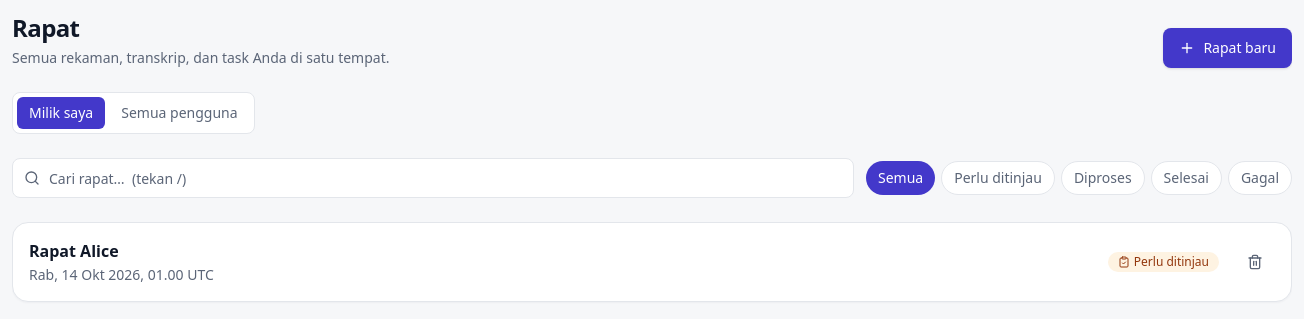
it: meetings page scope (super admin) › a super admin can switch to everyone's meetings and sees whose they are; others get no switch
Later steps or results of the test are not shown.
Expected: the text "Rapat Alice" is shown, left=29, top=240, right=119, bottom=262
Expected: the text "alice@kantor.id" is not shown
Click the button "Semua pengguna": {"x": 179, "y": 113} left=109, top=97, right=250, bottom=129
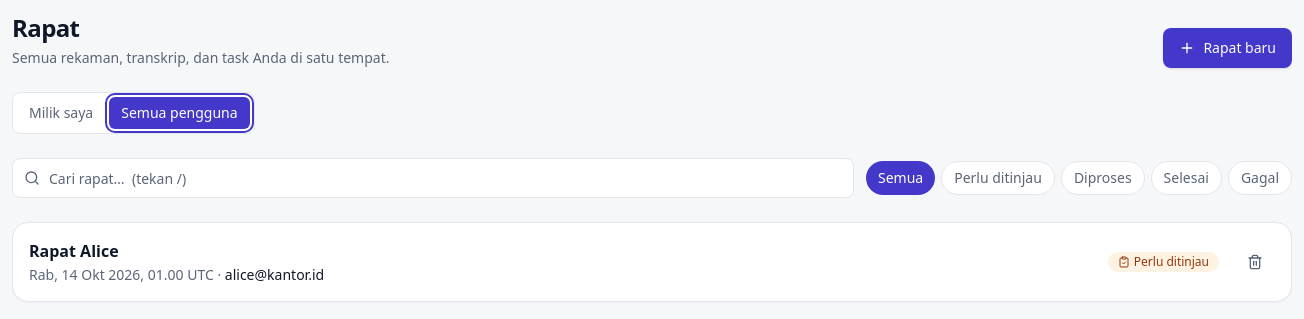
Now the text "alice@kantor.id" is shown, box left=225, top=265, right=324, bottom=284
